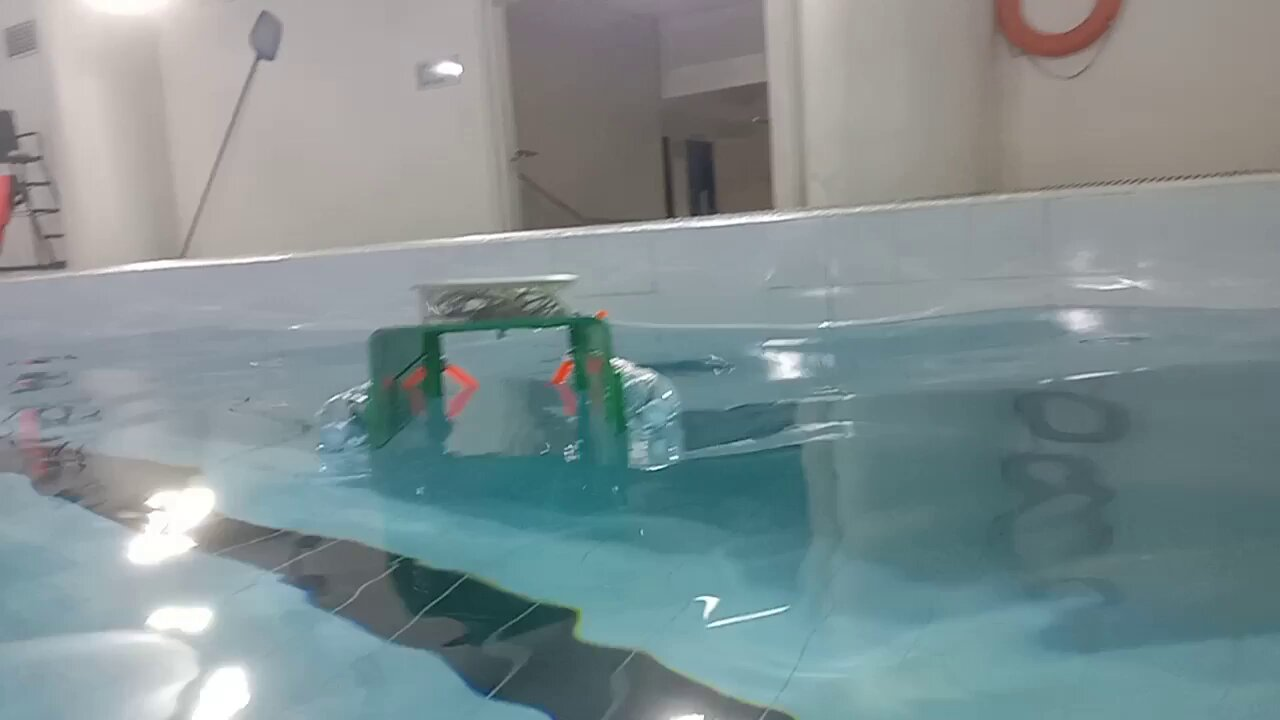drone: (309, 266, 682, 459)
